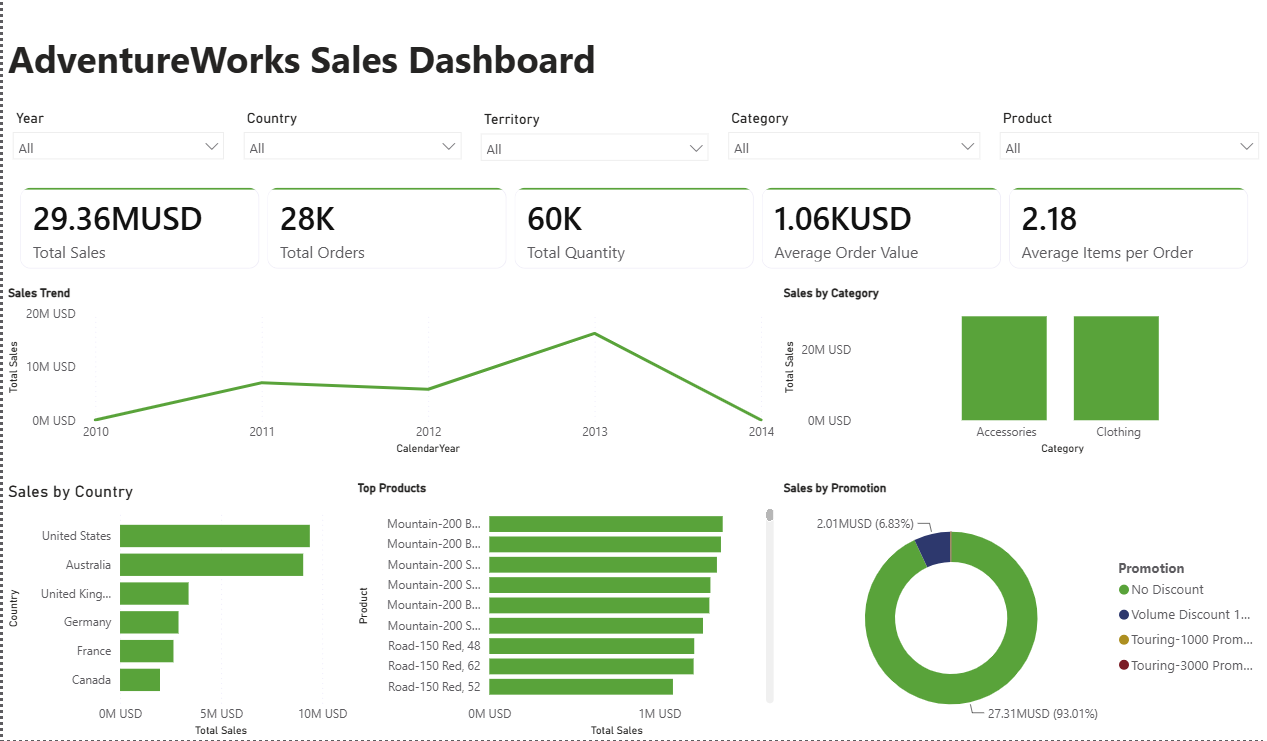

What the dashboard file says about the page in this screenshot:
{"tool":"powerbi","page":{"name":"Sales Dashboard","canvas":[1280,720],"ordinal":0},"visuals":[{"type":"textbox","box":[0,0,1278.4,67.1],"z":0},{"type":"cardVisual","fields":{"Data":["_Measures.Total Sales","_Measures.Total Orders","_Measures.Total Quantity","_Measures.Average Order Value","_Measures.Average Items per Order"]},"box":[0,144.1,1280.3,116.8],"z":1000},{"type":"slicer","fields":{"Values":["DimDate.Calendar.CalendarYear"]},"box":[0,77.4,233.6,65.2],"z":2000},{"type":"slicer","fields":{"Values":["DimProduct.EnglishProductName"]},"box":[998.1,77.4,282.1,65.2],"z":3000},{"type":"slicer","fields":{"Values":["FactSurveyResponse.EnglishProductCategoryName"]},"box":[723.6,77.4,274.6,65.2],"z":4000},{"type":"slicer","title":"Country","fields":{"Values":["DimGeography.EnglishCountryRegionName"]},"box":[233.6,77.4,239.7,65.2],"z":5000},{"type":"slicer","fields":{"Values":["DimSalesTerritory.SalesTerritoryGroup"]},"box":[473.3,78.9,250.3,65.2],"z":6000},{"type":"lineChart","title":"Sales Trend","fields":{"Category":["DimDate.Calendar.CalendarYear"],"Y":["_Measures.Total Sales"]},"box":[0,260.9,784.2,174.4],"z":7000},{"type":"clusteredColumnChart","title":"Sales by Category","fields":{"Category":["FactSurveyResponse.EnglishProductCategoryName"],"Y":["_Measures.Total Sales"]},"box":[784.2,260.9,496,174.4],"z":8000},{"type":"barChart","title":"Top Products","fields":{"Category":["DimProduct.EnglishProductName"],"Y":["_Measures.Total Sales"]},"box":[353.4,458.1,430.8,262.4],"z":9000},{"type":"donutChart","title":"Sales by Promotion","fields":{"Category":["DimPromotion.EnglishPromotionName"],"Y":["_Measures.Total Sales"]},"box":[784.2,458.1,494.5,262.4],"z":10000},{"type":"barChart","title":"Sales by Country","fields":{"Category":["DimGeography.EnglishCountryRegionName"],"Y":["_Measures.Total Sales"]},"box":[0,458.1,353.4,262.4],"z":11000}]}

Visuals, with their boxes on the page's 1280x720 design canvas (x1, y1, x2, y2). These are canvas units, not pixel positions in the 1267x741 screenshot, which may show the page scaled, cropped or inside an application window:
textbox: Rect(0, 0, 1278, 67)
cardVisual - _Measures.Total Sales x _Measures.Total Orders: Rect(0, 144, 1280, 261)
slicer - DimDate.Calendar.CalendarYear: Rect(0, 77, 234, 143)
slicer - DimProduct.EnglishProductName: Rect(998, 77, 1280, 143)
slicer - FactSurveyResponse.EnglishProductCategoryName: Rect(724, 77, 998, 143)
"Country" slicer: Rect(234, 77, 473, 143)
slicer - DimSalesTerritory.SalesTerritoryGroup: Rect(473, 79, 724, 144)
"Sales Trend" lineChart: Rect(0, 261, 784, 435)
"Sales by Category" clusteredColumnChart: Rect(784, 261, 1280, 435)
"Top Products" barChart: Rect(353, 458, 784, 720)
"Sales by Promotion" donutChart: Rect(784, 458, 1279, 720)
"Sales by Country" barChart: Rect(0, 458, 353, 720)
